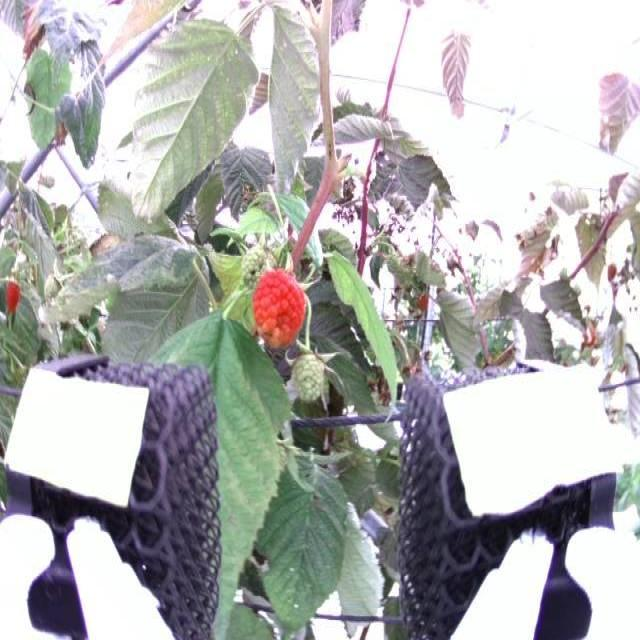Riped berries: (252, 261, 306, 345)
